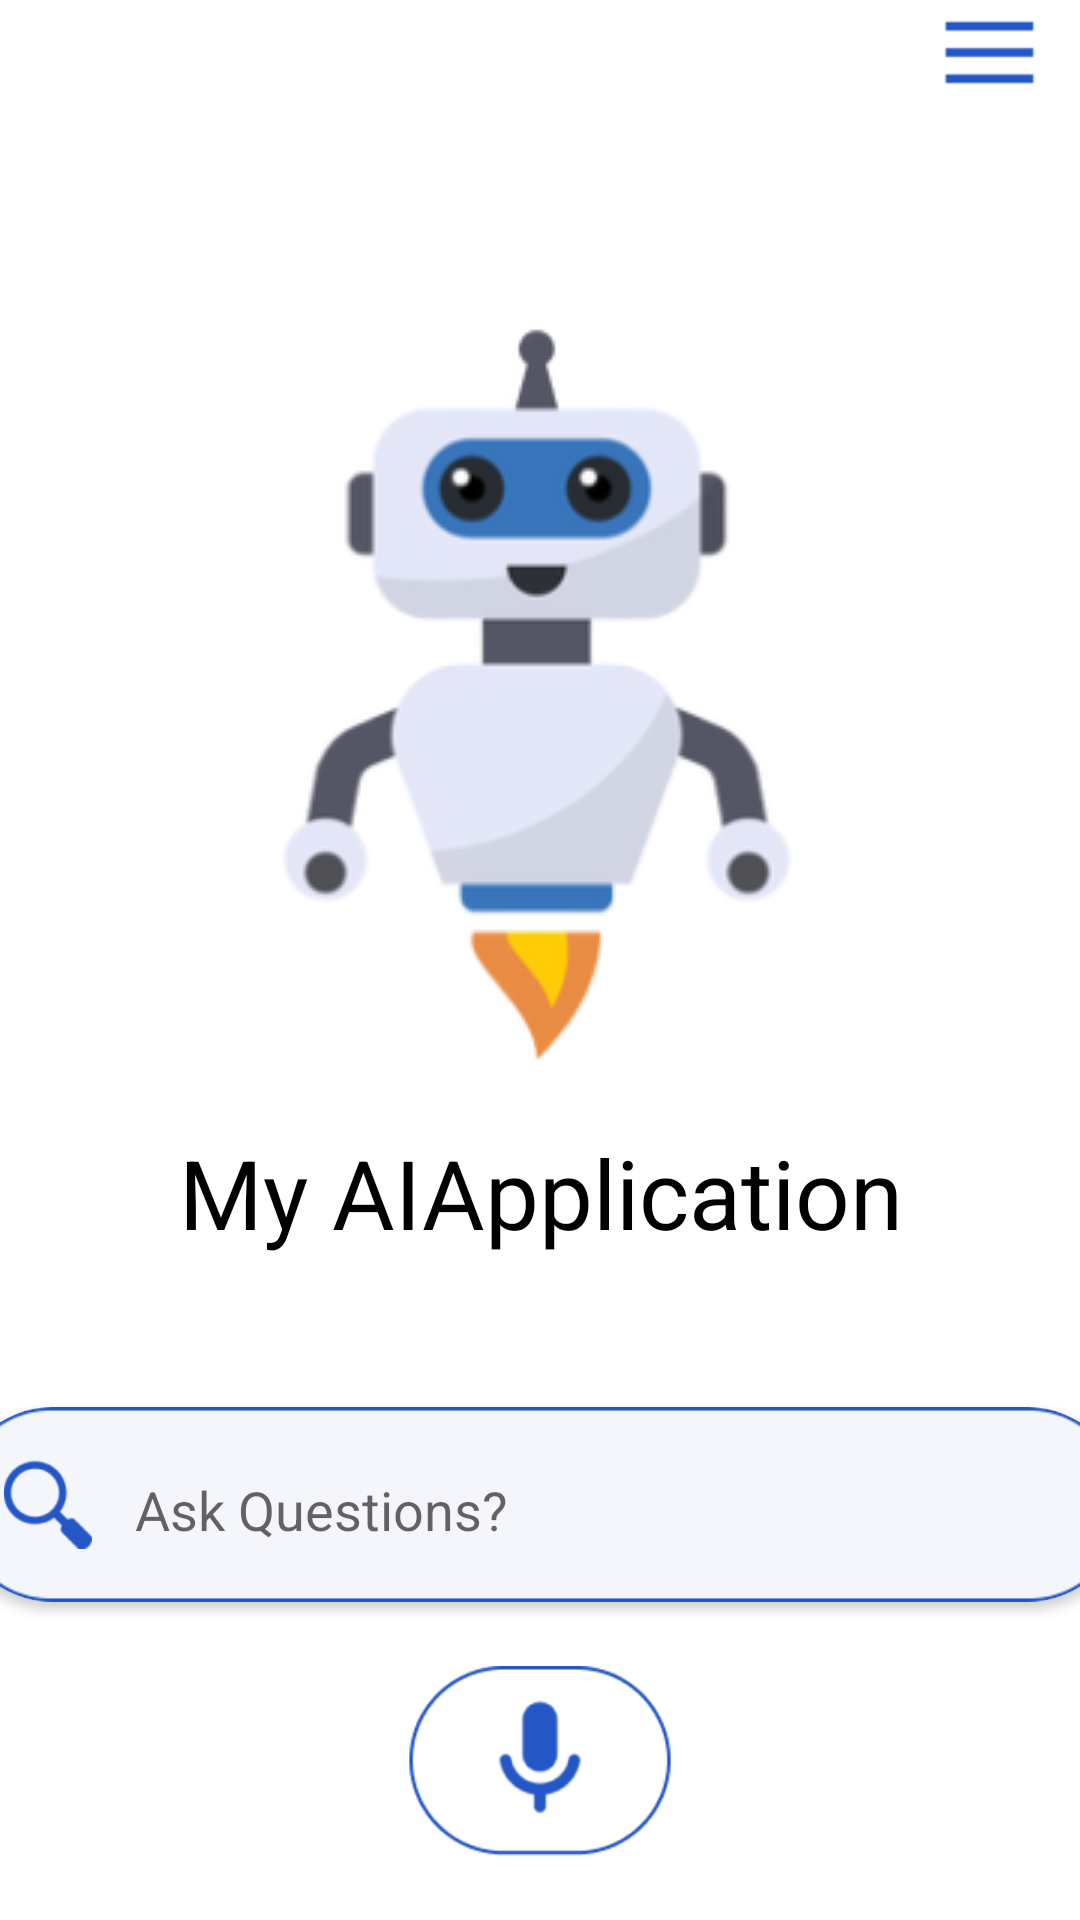

Where icons sit on this 1080px×1920px app screen, as [x1=x1, y1=y1, x2=x2, y2=y2]:
menubutton: [x1=944, y1=21, x2=1035, y2=84]
searchicon: [x1=4, y1=1460, x2=92, y2=1549]
